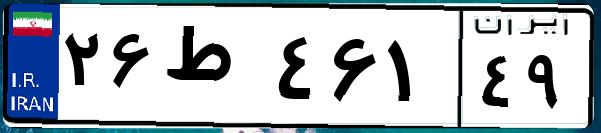1: (385, 28, 445, 110)
2: (57, 26, 110, 100)
4: (270, 28, 330, 110), (475, 38, 525, 113)
6: (330, 28, 385, 110), (110, 28, 158, 98)
9: (525, 38, 570, 115)
ط: (158, 20, 270, 120)
